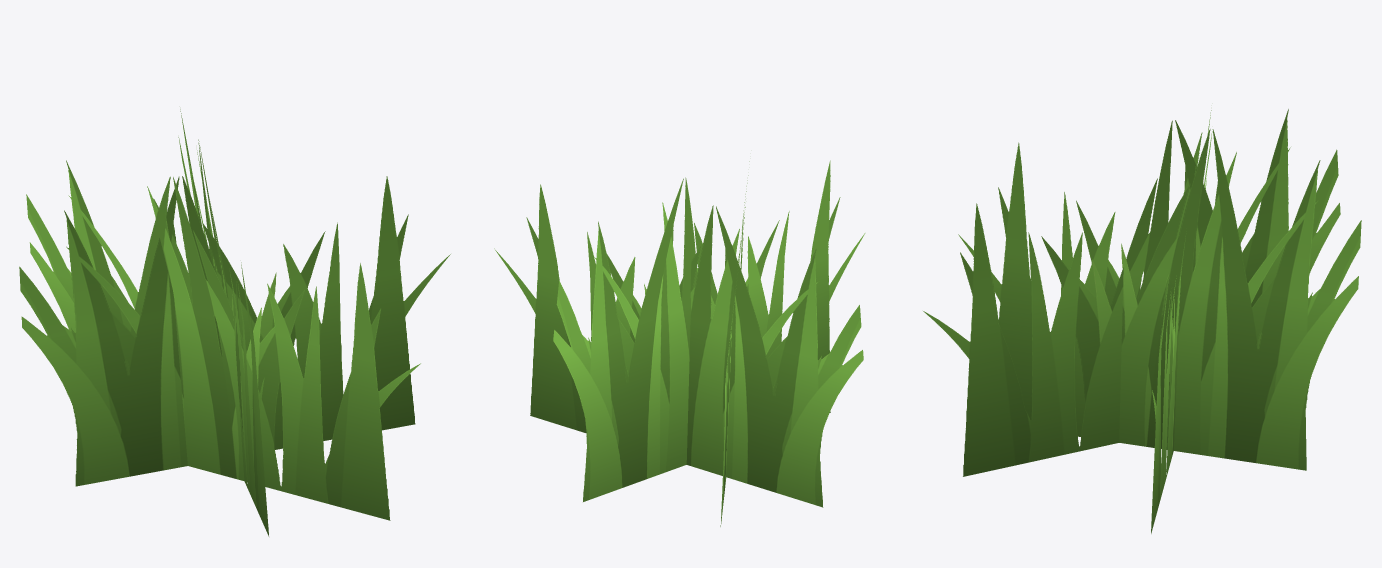
Rendered from grass_2_mid.glb.
The picture shows the model from 3 angles, left to right: view 1: azimuth 30°, elevation 25°; view 2: azimuth 150°, elevation 25°; view 3: azimuth 270°, elevation 25°; orthographic projection. The views are drawn at different scales.
Visible parts, largest first — view 1: grass_2_mid; view 2: grass_2_mid; view 3: grass_2_mid.
Boxes of the visible parts, left/top/right/bottom form: grass_2_mid: left=19, top=109, right=450, bottom=536; grass_2_mid: left=494, top=160, right=865, bottom=526; grass_2_mid: left=923, top=109, right=1361, bottom=533.
Size of the model in its own units: 0.5812 by 0.5055 by 0.5576.
1 material, 1 textured.
